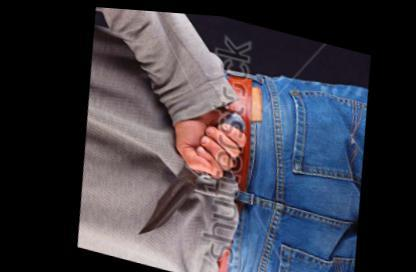knife: (112, 112, 238, 260)
